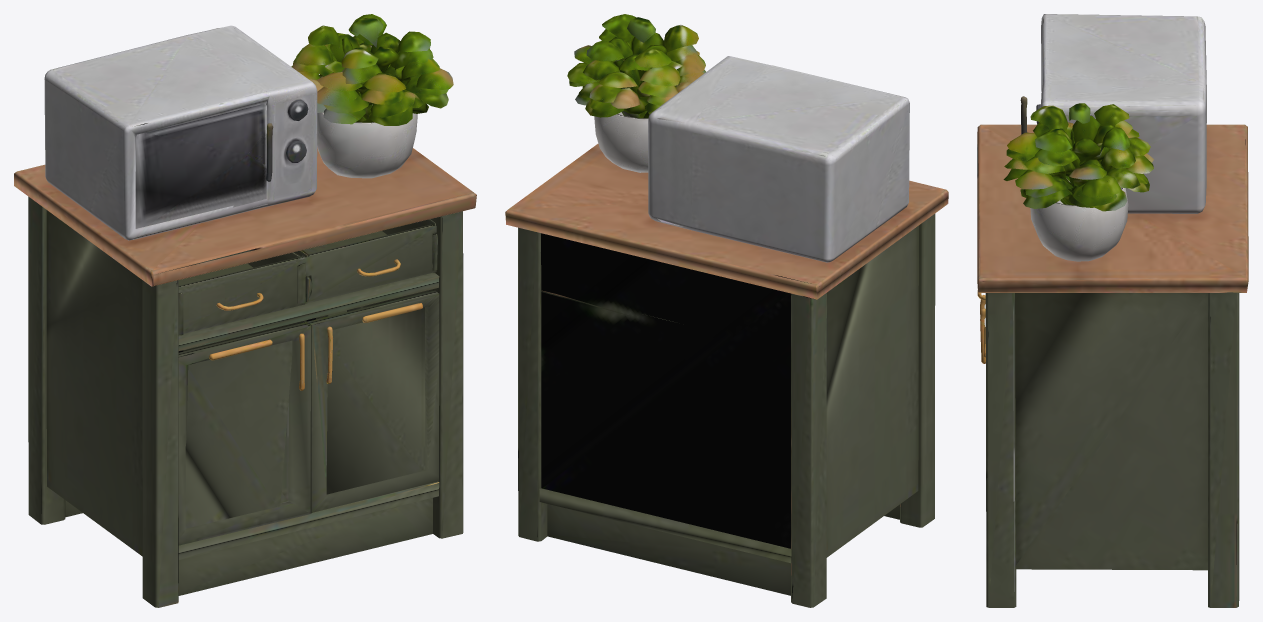
File: microwave_counter.glb
3 renders of one model, left to right at view 1: azimuth 30°, elevation 25°; view 2: azimuth 150°, elevation 25°; view 3: azimuth 270°, elevation 25°, orthographic. The views are drawn at different scales.
Visible parts, largest first — view 1: geometry_0; view 2: geometry_0; view 3: geometry_0.
Part boxes in pixels (x1,y1,x2,y2): geometry_0: [14, 14, 476, 607]; geometry_0: [505, 14, 948, 607]; geometry_0: [977, 14, 1248, 607].
Bounding box in the file's own units: 0.7147 × 1 × 0.5144.
1 material, 1 textured.
